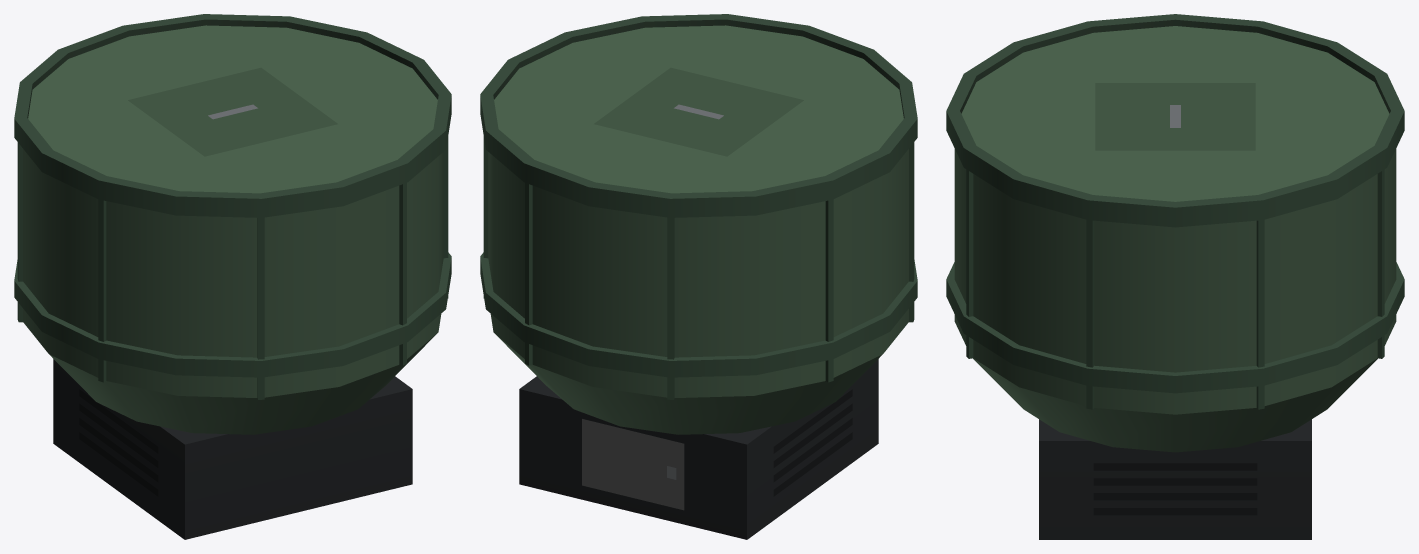
Rendered from hopper.round.green.glb.
3 views of the same model, side by side, from view 1: azimuth 30°, elevation 25°; view 2: azimuth 150°, elevation 25°; view 3: azimuth 270°, elevation 25° (orthographic). The views are drawn at different scales.
Parts seen in each view (by area): view 1: hopper_round_green; view 2: hopper_round_green; view 3: hopper_round_green.
Part boxes in pixels (bbox=[...]): hopper_round_green: bbox=[14, 14, 451, 539]; hopper_round_green: bbox=[480, 14, 917, 539]; hopper_round_green: bbox=[946, 14, 1404, 539].
Size of what is drawn, in the model's own units: 3.36 by 3 by 3.36.
